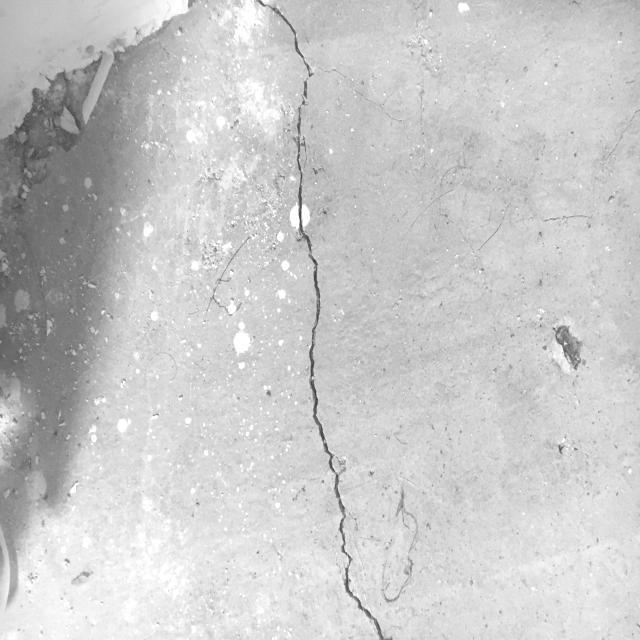SurfaceCrack: (222, 1, 403, 640)
